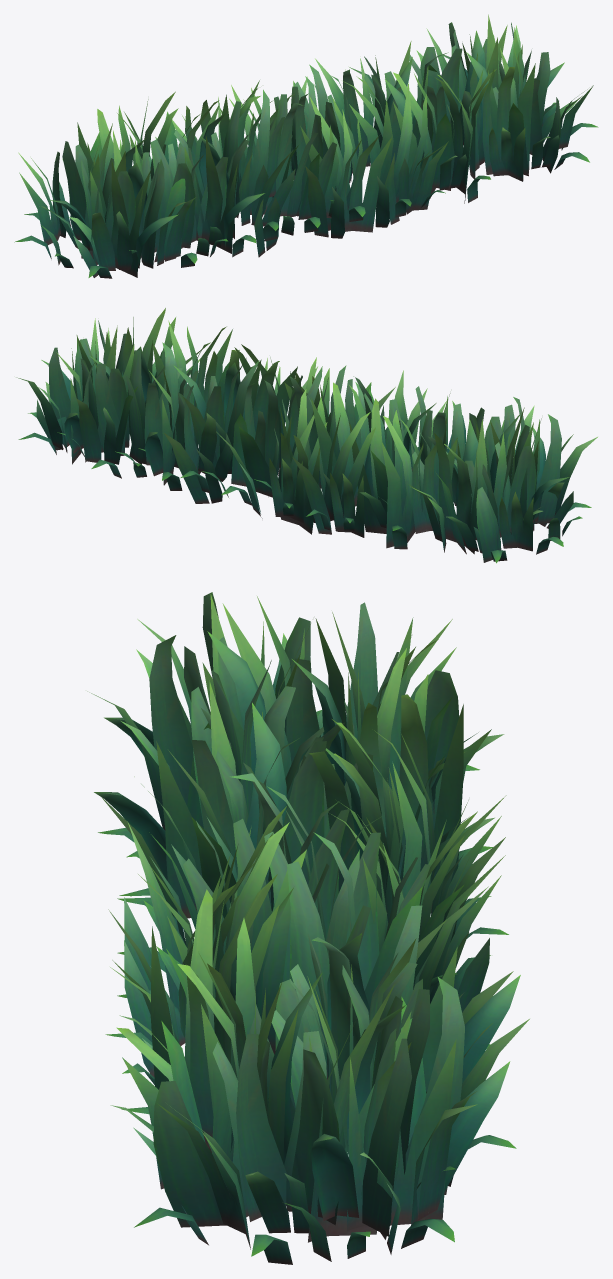
The model's file is pref_sm_4v4beachtech_WSJ_techgrass_alpha_yellow01_lv2.fbx.
The picture shows the model from 3 angles, top to bottom: view 1: azimuth 30°, elevation 25°; view 2: azimuth 150°, elevation 25°; view 3: azimuth 270°, elevation 25°; orthographic projection. The views are drawn at different scales.
Visible parts, largest first — view 1: pref_sm_4v4beachtech_WSJ_techgrass_alpha_yellow01_lv2; view 2: pref_sm_4v4beachtech_WSJ_techgrass_alpha_yellow01_lv2; view 3: pref_sm_4v4beachtech_WSJ_techgrass_alpha_yellow01_lv2.
Boxes of the visible parts, x1,y1,x2,y2 form: pref_sm_4v4beachtech_WSJ_techgrass_alpha_yellow01_lv2: [14, 14, 598, 278]; pref_sm_4v4beachtech_WSJ_techgrass_alpha_yellow01_lv2: [16, 308, 597, 563]; pref_sm_4v4beachtech_WSJ_techgrass_alpha_yellow01_lv2: [87, 592, 529, 1264].
Bounding box in the file's own units: 8.33 × 2.09 × 2.97.
